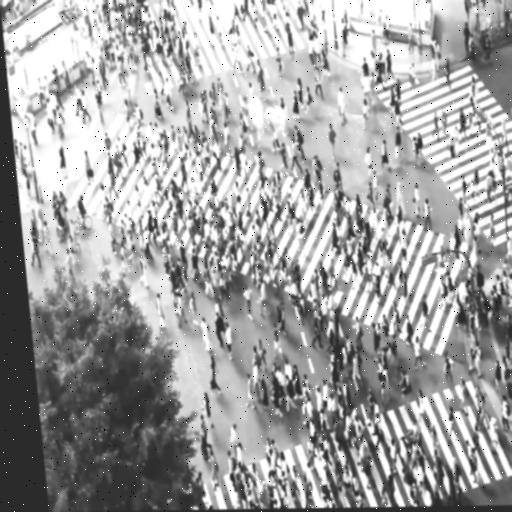balloon: (247, 97, 266, 128), (264, 107, 285, 132)
